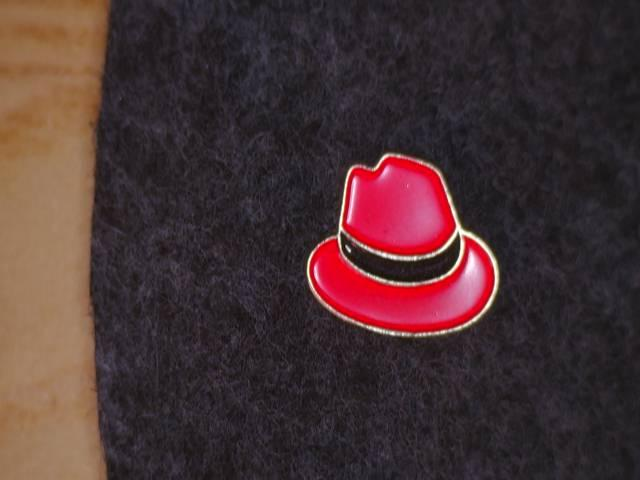Red-Hat: (282, 125, 540, 372)
